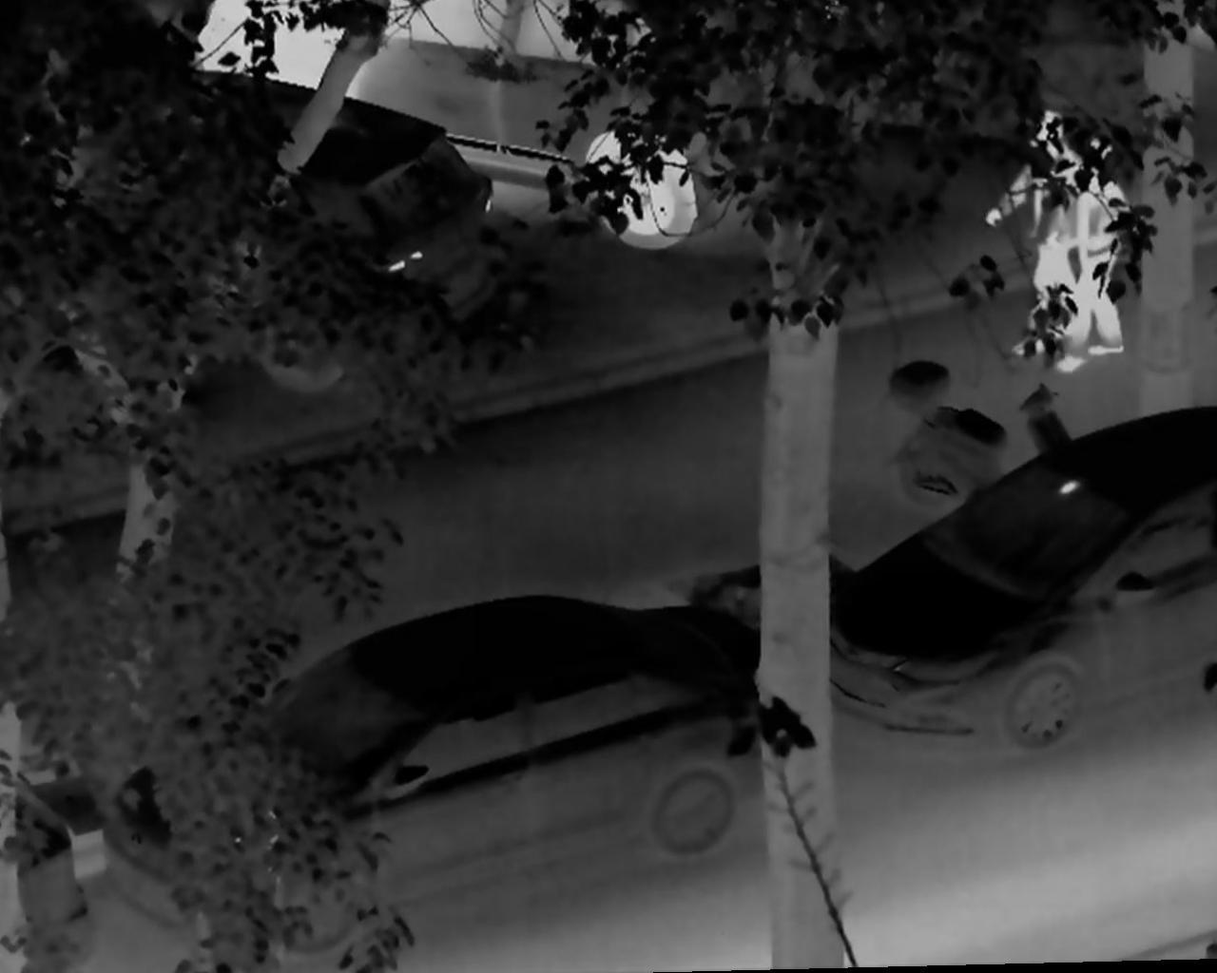person: (985, 107, 1089, 363), (1052, 139, 1135, 374)
